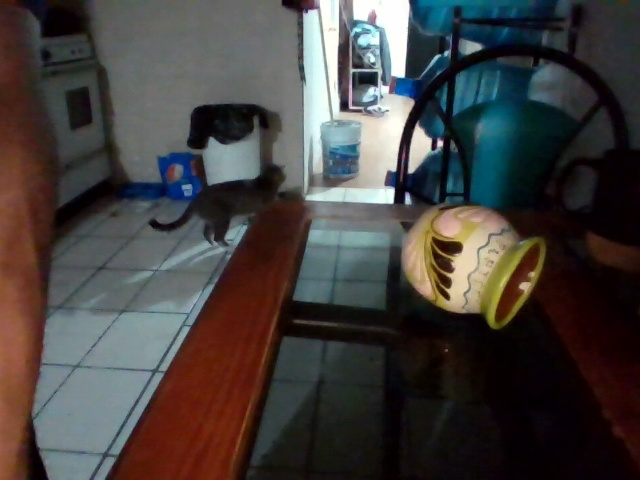taza: (321, 120, 362, 184)
